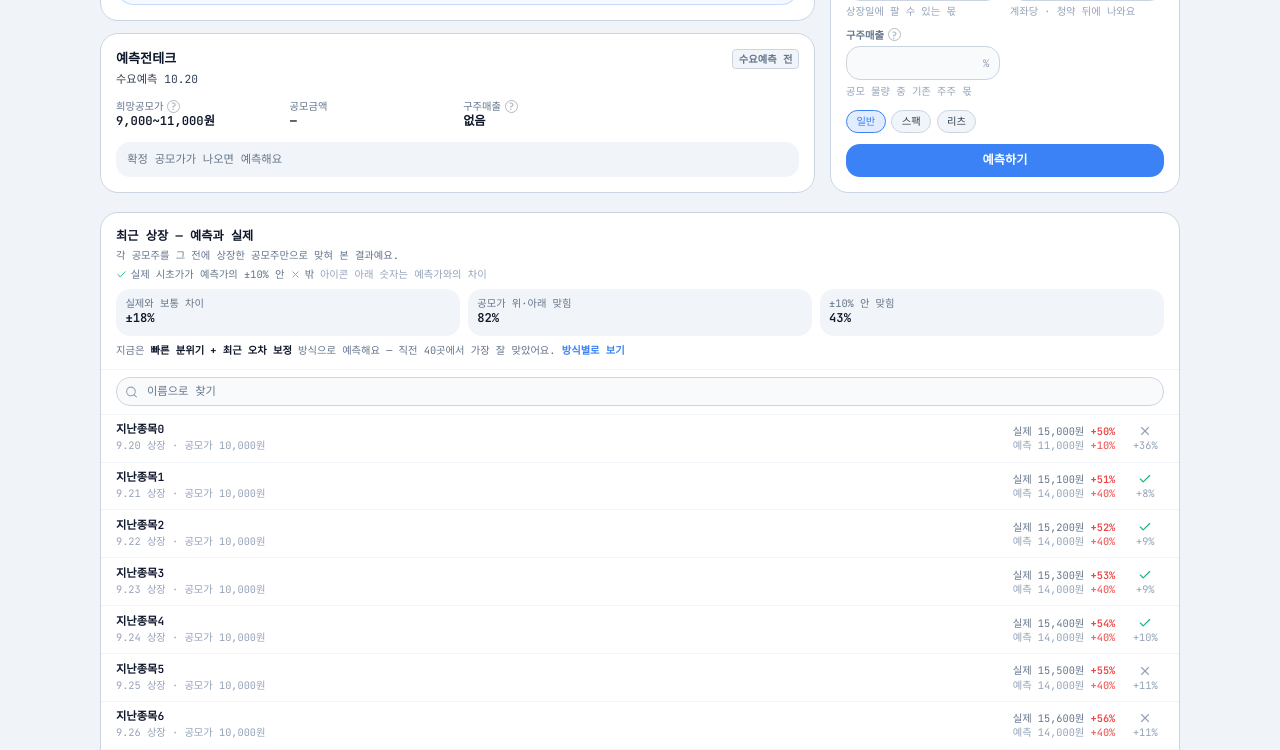
Test case: 공모주 — 최근 상장 › 지금 쓰는 방식을 적고, 방식별 성적을 펼쳐 볼 수 있다
(page scrolled)
expect the text "지금은 빠른 분위기 + 최근 오차 보정 방식으로 예측해요 — 직전 40곳에서 가장 잘 맞았어요." is shown: met, box 116,343 -> 625,357
Click the button "방식별로 보기".
click(593, 350)  # box 562,343 -> 625,357
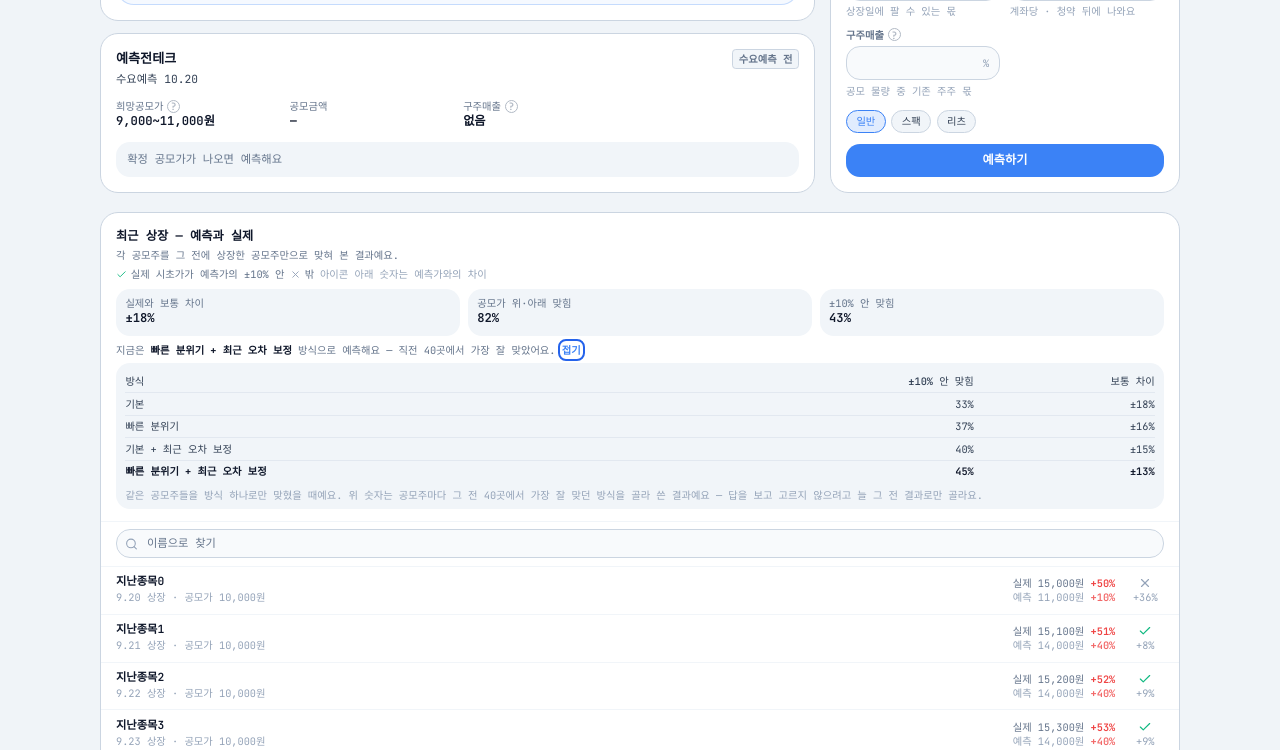
expect the rows read "방식±10% 안 맞힘보통 차이", "기본33%±18%", "빠른 분위기37%±16%", "기본 + 최근 오차 보정40%±15%", "빠른 분위기 + 최근 오차 보정45%±13%", in this order: met, box 125,370 -> 1155,392; 125,392 -> 1155,415; 125,415 -> 1155,438; 125,438 -> 1155,460; 125,460 -> 1155,482
expect the text "답을 보고 고르지 않으려고" is shown: met, box 496,488 -> 983,502
Click the button "접기".
click(571, 350)  # box 562,343 -> 581,357
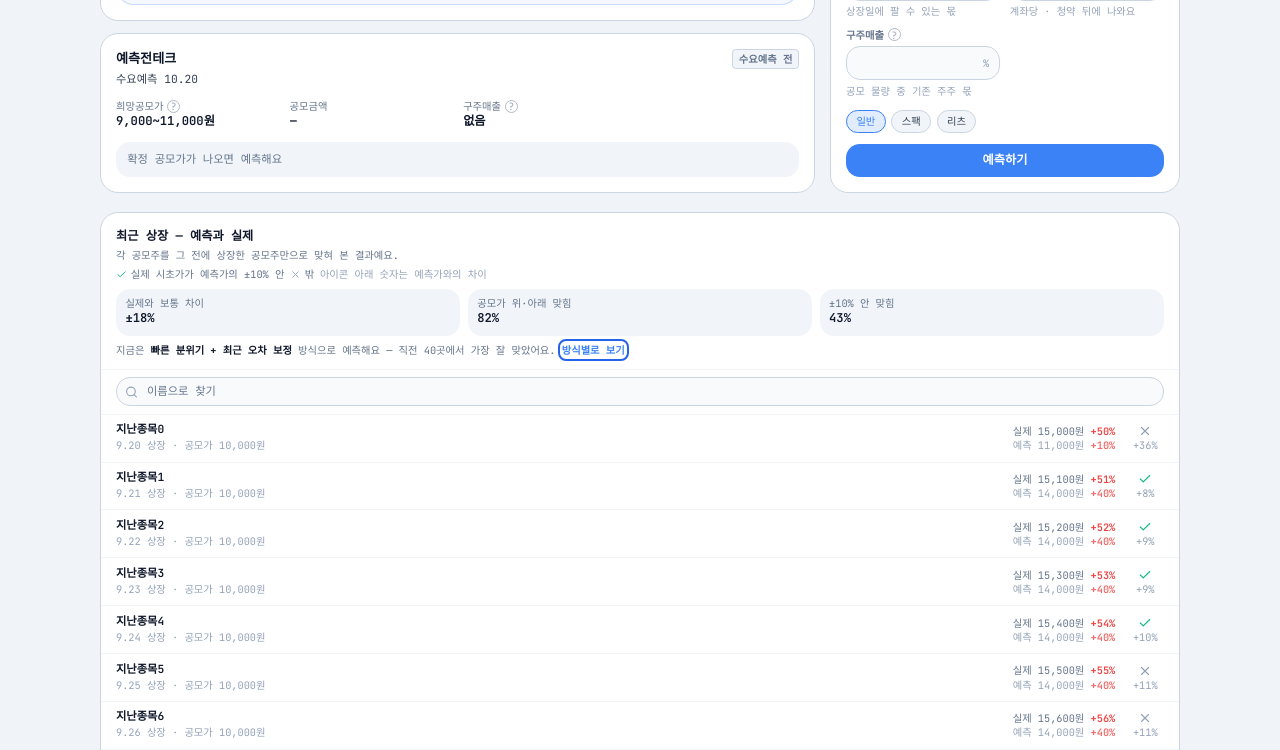
expect the table is gone: met
